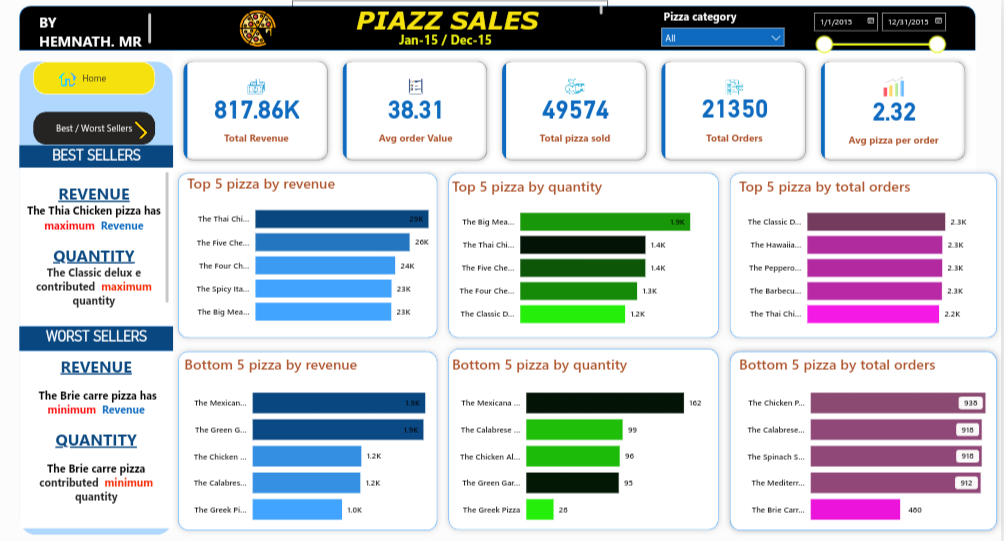

Layout of this report page (visuals, bound fields, positions):
{"tool":"powerbi","page":{"name":"Best / Worst Sellers","canvas":[1500,820],"ordinal":1},"visuals":[{"type":"shape","box":[32.8,96.8,229.6,706.8],"z":0},{"type":"cardVisual","fields":{"Data":["pizza_sales.Total Revenue","pizza_sales.Avg order Value","pizza_sales.Total pizza sold","pizza_sales.Total Orders","pizza_sales.Avg pizza per order"]},"box":[262.4,80.4,1200.5,180.4],"z":1000},{"type":"shape","box":[33.3,13.3,1428.3,66.7],"z":2000},{"type":"shape","box":[262.4,254.2,403.4,262.4],"z":3000},{"type":"shape","box":[665.8,516.6,419.8,287],"z":4000},{"type":"shape","box":[665.8,254.2,419.8,262.4],"z":5000},{"type":"shape","box":[262.4,519.9,403.4,283.7],"z":6000},{"type":"shape","box":[1085.7,254.2,414.9,262.4],"z":7000},{"type":"textbox","box":[32.8,219.8,229.6,34.4],"z":8000},{"type":"textbox","box":[32.8,255.8,229.6,236.2],"z":9000},{"type":"textbox","box":[32.8,492,229.6,36.1],"z":10000},{"type":"textbox","box":[32.8,528.1,229.6,264],"z":11000},{"type":"shape","box":[1085.7,519.9,414.9,283.7],"z":12000},{"type":"barChart","title":"Top 5 pizza by revenue","fields":{"Y":["pizza_sales.Total Revenue"],"Category":["pizza_sales.pizza_name"]},"box":[280.4,260.8,377,240],"z":13000},{"type":"barChart","title":"Bottom 5 pizza by revenue","fields":{"Y":["pizza_sales.Total Revenue"],"Category":["pizza_sales.pizza_name"]},"box":[275.5,534.6,377.2,269],"z":14000},{"type":"barChart","title":"Top 5 pizza by quantity","fields":{"Y":["pizza_sales.Total pizza sold"],"Category":["pizza_sales.pizza_name"]},"box":[674,265.7,377.2,239.4],"z":15000},{"type":"barChart","title":"Bottom 5 pizza by quantity","fields":{"Y":["pizza_sales.Total pizza sold"],"Category":["pizza_sales.pizza_name"]},"box":[674,534.6,411.6,269],"z":16000},{"type":"barChart","title":"Top 5 pizza by total orders","fields":{"Category":["pizza_sales.pizza_name"],"Y":["pizza_sales.Total Orders"]},"box":[1105.4,265.7,377.2,239.4],"z":17000},{"type":"shape","box":[1085.1,519.9,414.9,283.7],"z":18000},{"type":"barChart","title":"Bottom 5 pizza by total orders","fields":{"Category":["pizza_sales.pizza_name"],"Y":["pizza_sales.Total Orders"]},"box":[1105.4,534.6,395.2,269],"z":19000},{"type":"slicer","fields":{"Values":["pizza_sales.pizza_category"]},"box":[984,13.1,203.4,67.2],"z":20000},{"type":"slicer","fields":{"Values":["pizza_sales.order_date"]},"box":[1208.7,13.1,218.1,82],"z":21000},{"type":"pageNavigator","box":[55.8,170.6,182,49.2],"z":22000},{"type":"pageNavigator","box":[55.8,96.8,182,49.2],"z":23000},{"type":"image","box":[190.2,177.1,47.6,36.1],"z":24000},{"type":"image","box":[88.6,100,36.1,45.9],"z":25000},{"type":"textbox","box":[442.8,4.9,470.7,49.2],"z":26000},{"type":"textbox","box":[595.3,45.9,167.3,50.8],"z":26001},{"type":"image","box":[355.9,13.1,70.5,67.2],"z":26002},{"type":"textbox","box":[57.4,18,178.8,62.3],"z":26003}]}

Visuals, with their boxes in screenshot pixels (x1, y1, x2, y2), scaled from the page's 1500x820 canvas onto the 1004x541 screenshot:
shape: <box>22,64,176,530</box>
cardVisual - pizza_sales.Total Revenue x pizza_sales.Avg order Value: <box>176,53,979,172</box>
shape: <box>22,9,978,53</box>
shape: <box>176,168,446,341</box>
shape: <box>446,341,727,530</box>
shape: <box>446,168,727,341</box>
shape: <box>176,343,446,530</box>
shape: <box>727,168,1003,341</box>
textbox: <box>22,145,176,168</box>
textbox: <box>22,169,176,325</box>
textbox: <box>22,325,176,348</box>
textbox: <box>22,348,176,523</box>
shape: <box>727,343,1003,530</box>
"Top 5 pizza by revenue" barChart: <box>188,172,440,330</box>
"Bottom 5 pizza by revenue" barChart: <box>184,353,437,530</box>
"Top 5 pizza by quantity" barChart: <box>451,175,704,333</box>
"Bottom 5 pizza by quantity" barChart: <box>451,353,727,530</box>
"Top 5 pizza by total orders" barChart: <box>740,175,992,333</box>
shape: <box>726,343,1003,530</box>
"Bottom 5 pizza by total orders" barChart: <box>740,353,1003,530</box>
slicer - pizza_sales.pizza_category: <box>659,9,795,53</box>
slicer - pizza_sales.order_date: <box>809,9,955,63</box>
pageNavigator: <box>37,113,159,145</box>
pageNavigator: <box>37,64,159,96</box>
image: <box>127,117,159,141</box>
image: <box>59,66,83,96</box>
textbox: <box>296,3,611,36</box>
textbox: <box>398,30,510,64</box>
image: <box>238,9,285,53</box>
textbox: <box>38,12,158,53</box>
